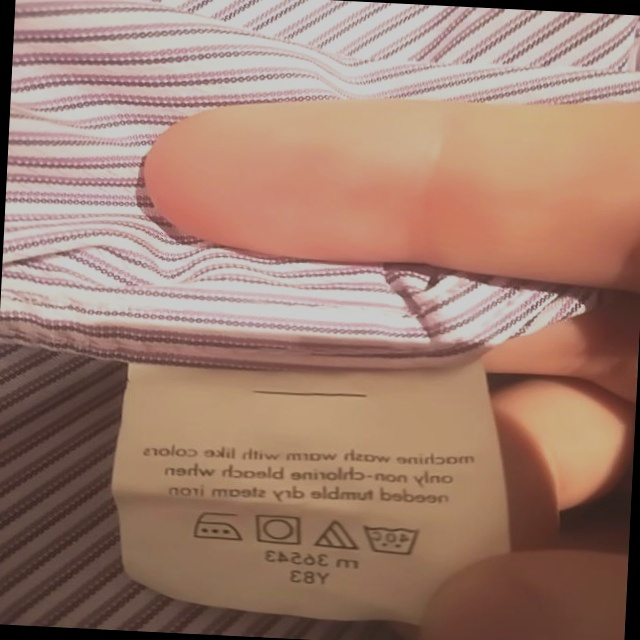40C: (359, 520, 422, 560)
iron_high: (187, 507, 244, 544)
non_chlorine_bleach: (312, 517, 360, 554)
tumble_dry_normal: (250, 513, 303, 548)
